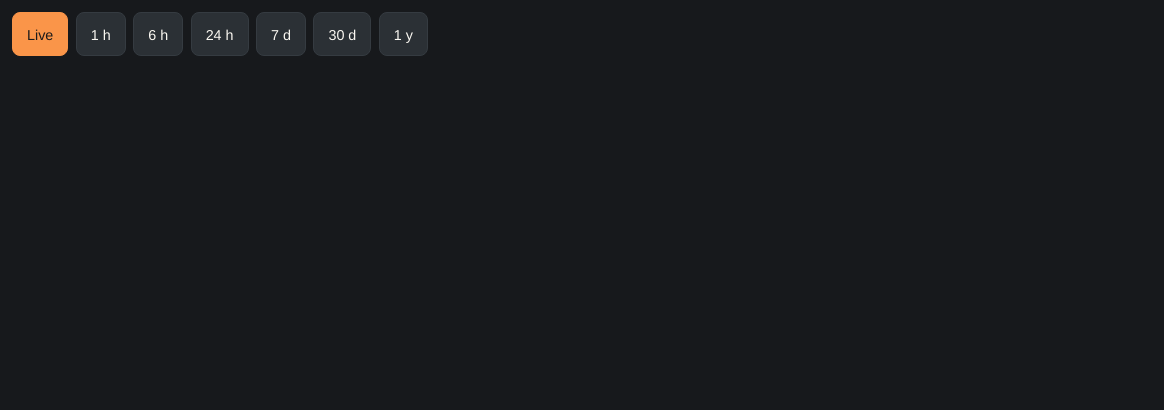
it: PowerHistorySection › asks the backend for the chosen range and shows the stored history
The width and height of the screenshot is (1164, 410).
Click the button "24 h" at (220, 34), box [191,12,248,56]
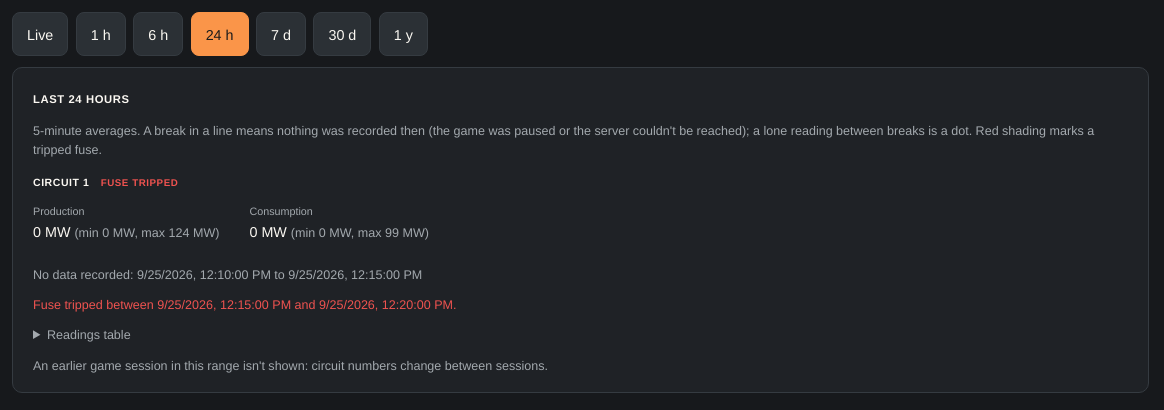
Expected: the heading "Last 24 hours" is shown, [33,88,130,106]
Expected: the text "5-minute averages" is shown, [33,121,1128,158]
